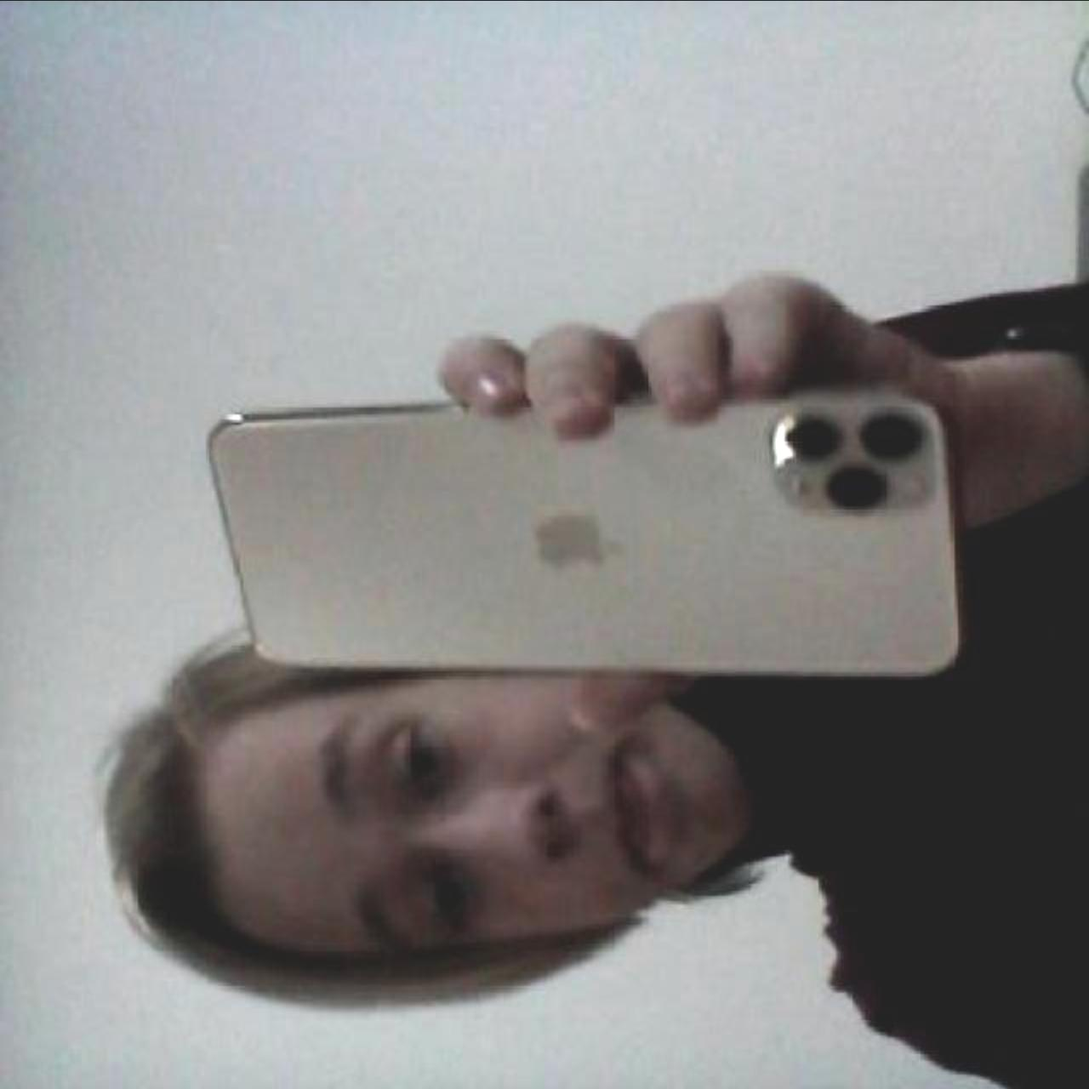phone: (204, 376, 968, 687)
